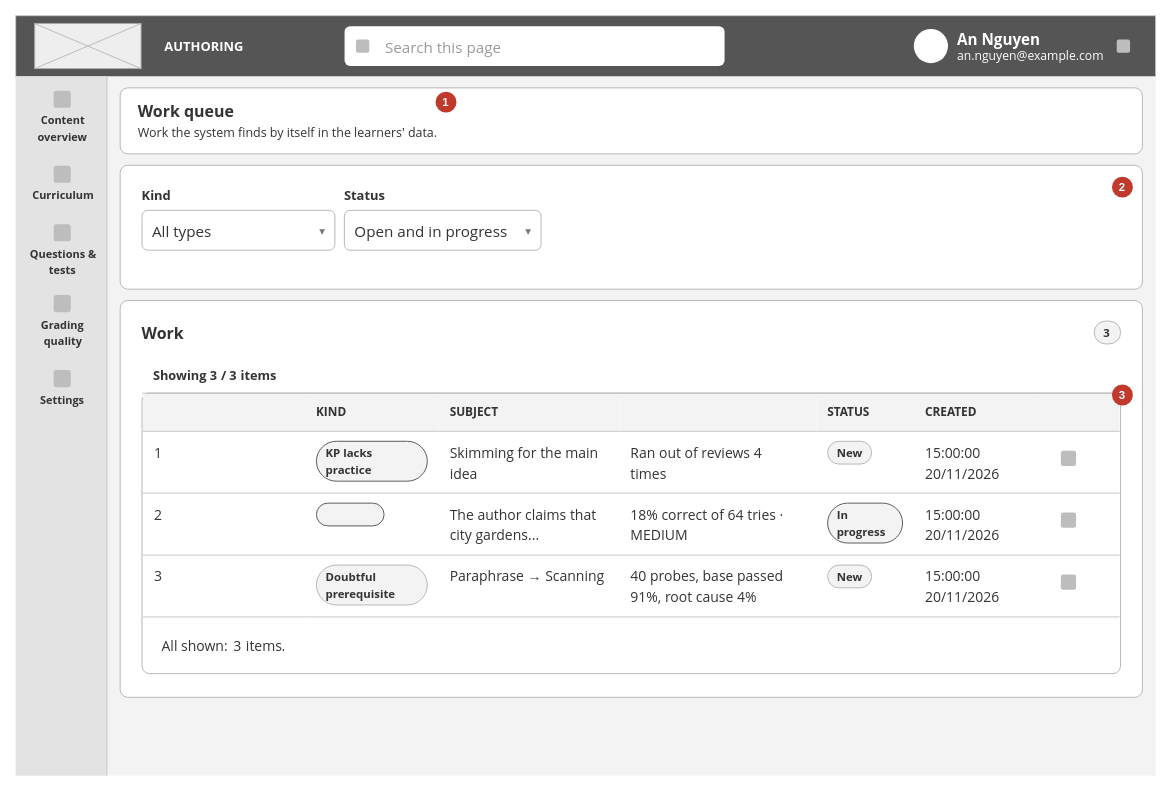
This 1171x791 diagram has some shape labels left out. Here are the shapes that lost their labels. From the top down, the box of each, then its label:
(913, 28, 948, 63): AN
(142, 394, 305, 431): NO.
(619, 394, 816, 431): FIGURES
(1039, 394, 1119, 431): ACTIONS
(315, 502, 384, 526): Too hard
